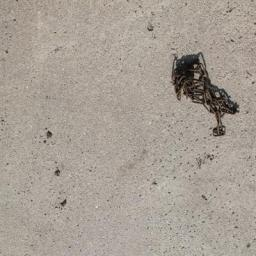FOD: (166, 52, 243, 139)
